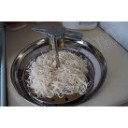idiyappam: (33, 51, 86, 95)
